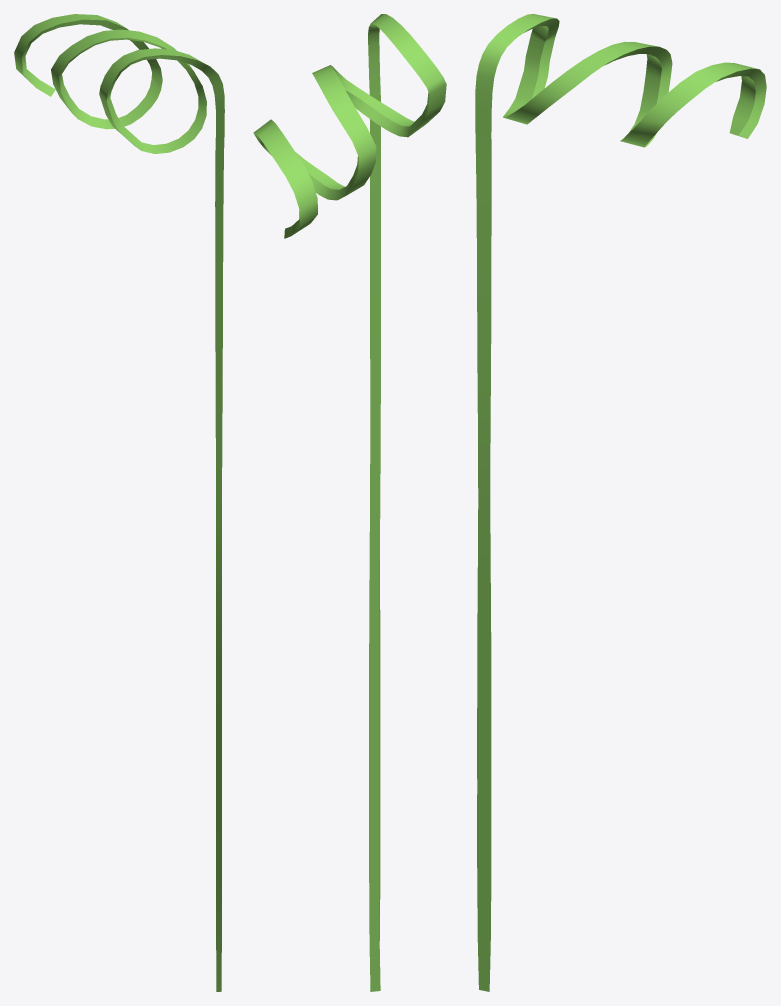
File: lianas_D.fbx
3 views of the same model, side by side, from view 1: azimuth 30°, elevation 25°; view 2: azimuth 150°, elevation 25°; view 3: azimuth 270°, elevation 25° (orthographic). The views are drawn at different scales.
Visible parts, largest first — view 1: liana_D_thick, liana_D; view 2: liana_D_thick, liana_D; view 3: liana_D, liana_D_thick.
Part boxes in pixels (box(x1,y1,x2,y2)): liana_D_thick: box(21, 19, 224, 991); liana_D: box(14, 14, 206, 141); liana_D_thick: box(253, 23, 445, 991); liana_D: box(254, 14, 446, 235); liana_D: box(475, 14, 758, 991); liana_D_thick: box(503, 18, 766, 147).
Bounding box in the file's own units: 21.13 × 169 × 46.81.
